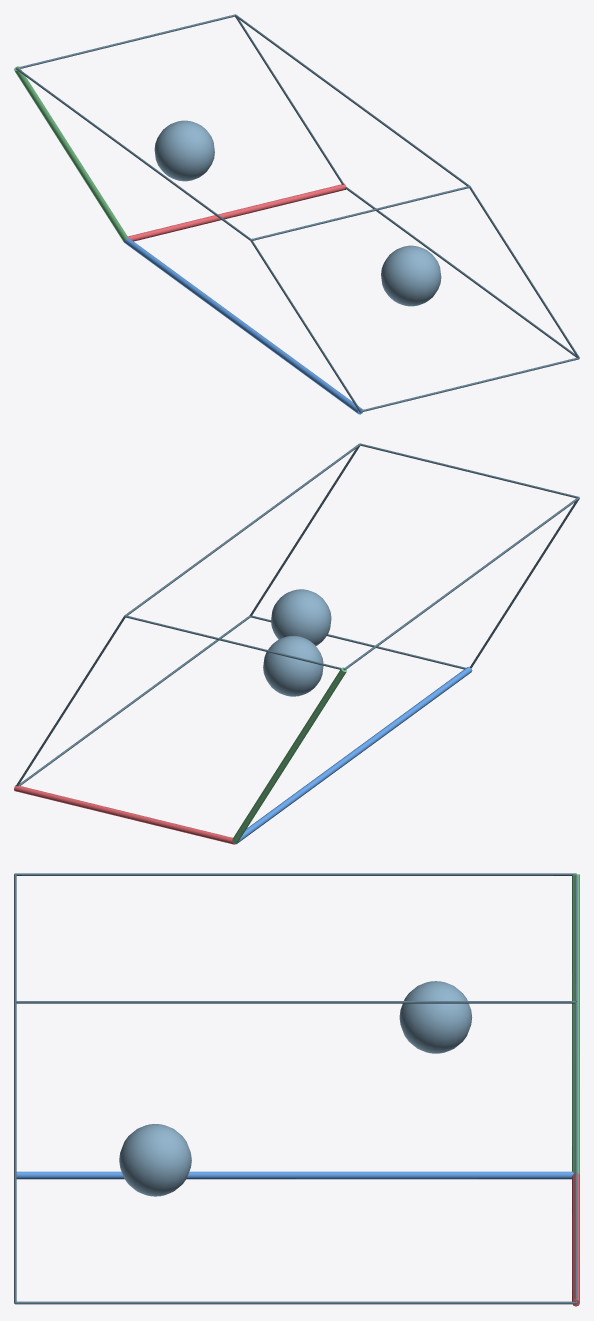
Rendered from nguyen-to-zn.glb.
3 renders of one model, top to bottom at view 1: azimuth 30°, elevation 25°; view 2: azimuth 150°, elevation 25°; view 3: azimuth 270°, elevation 25°, orthographic. The views are drawn at different scales.
Parts seen in each view (by area): view 1: Ô mạng và các trục a, b, c, Zn · Zn · 1 (×2); view 2: Ô mạng và các trục a, b, c, Zn · Zn · 1 (×2); view 3: Ô mạng và các trục a, b, c, Zn · Zn · 1 (×2).
Boxes of the visible parts, box(x1,y1,x2,y2) form: Ô mạng và các trục a, b, c: box(14, 14, 579, 414); Zn · Zn · 1 (×2): box(154, 120, 441, 306); Ô mạng và các trục a, b, c: box(14, 443, 579, 844); Zn · Zn · 1 (×2): box(263, 589, 331, 696); Ô mạng và các trục a, b, c: box(14, 873, 579, 1306); Zn · Zn · 1 (×2): box(119, 981, 472, 1196).
Size of the model in its own units: 4.03 by 2.36 by 4.98.
